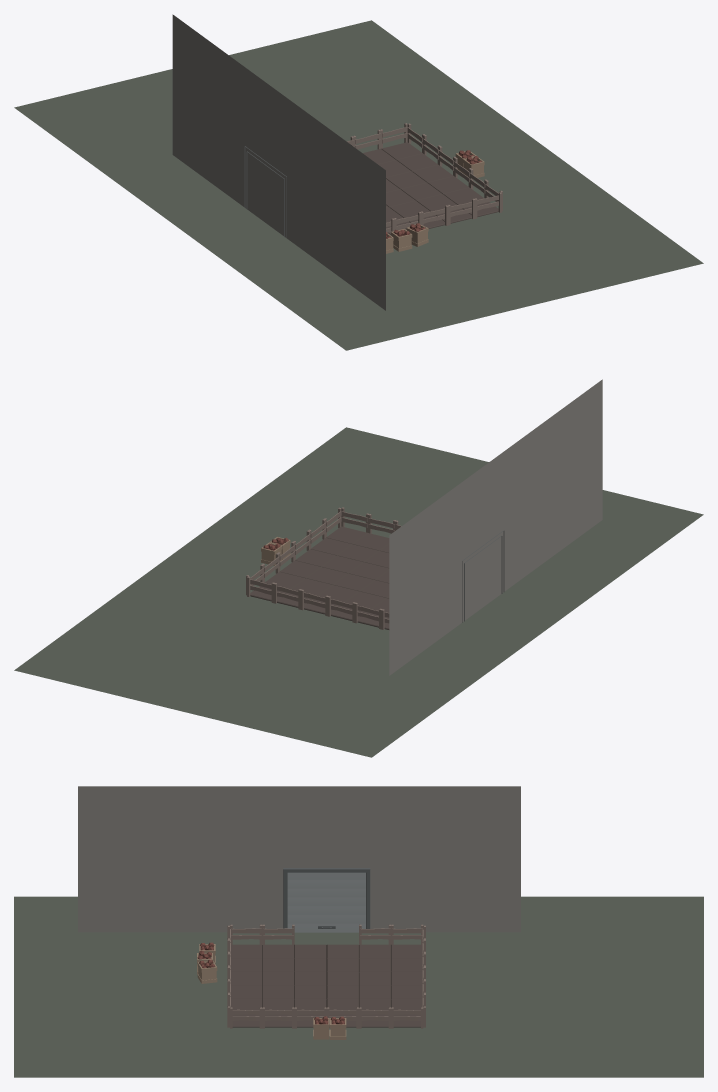
Rendered from sceneParcelle 1.fbx.
3 views of the same model, one above another, from view 1: azimuth 30°, elevation 25°; view 2: azimuth 150°, elevation 25°; view 3: azimuth 270°, elevation 25° (orthographic). The views are drawn at different scales.
Parts seen in each view (by area): view 1: pasted__pasted__pPlane1, pasted__pasted__sol5; view 2: pasted__pasted__pPlane1, pasted__pasted__sol5; view 3: pasted__pasted__pPlane1, pasted__pasted__sol5.
Boxes of the visible parts, left/top/right/bottom form: pasted__pasted__pPlane1: left=14, top=14, right=703, bottom=350; pasted__pasted__sol5: left=363, top=142, right=498, bottom=235; pasted__pasted__pPlane1: left=14, top=379, right=703, bottom=757; pasted__pasted__sol5: left=250, top=526, right=389, bottom=629; pasted__pasted__pPlane1: left=14, top=786, right=703, bottom=1077; pasted__pasted__sol5: left=231, top=944, right=422, bottom=1027.
Size of the model in its own units: 1331 by 501 by 2141.
